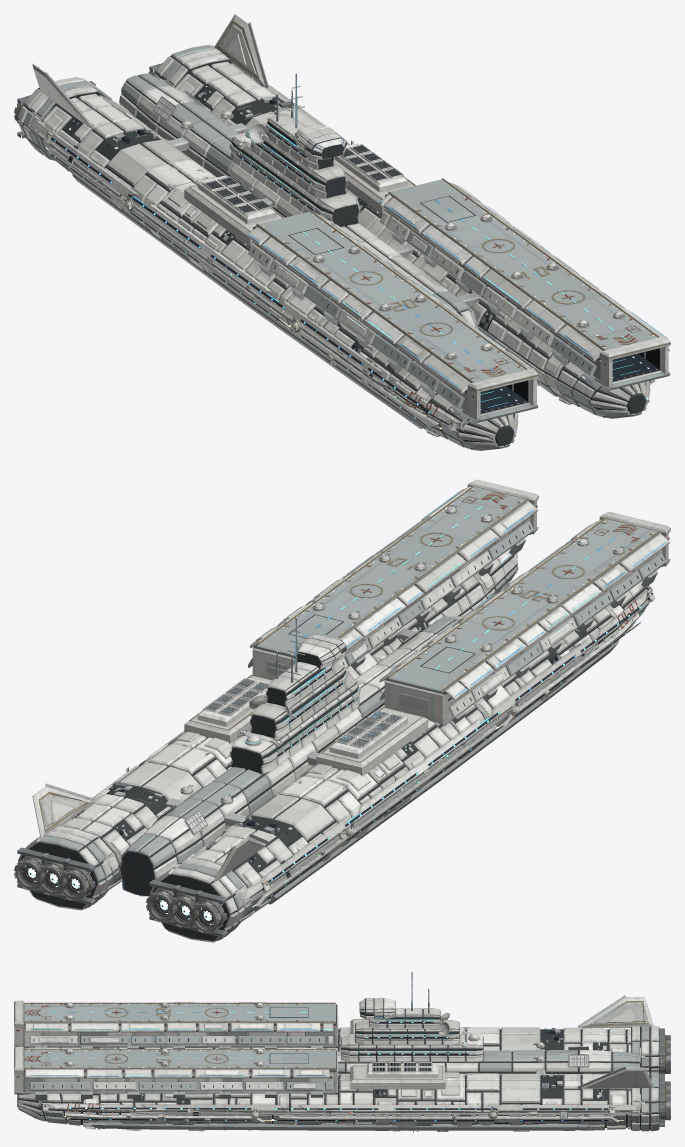
The model's file is aegis_carrier.glb.
The picture shows the model from 3 angles, top to bottom: view 1: azimuth 30°, elevation 25°; view 2: azimuth 150°, elevation 25°; view 3: azimuth 270°, elevation 25°; orthographic projection. The views are drawn at different scales.
Visible parts, largest first — view 1: aegis_carrier_hull, aegis_carrier_glass; view 2: aegis_carrier_hull; view 3: aegis_carrier_hull, aegis_carrier_glass.
Boxes of the visible parts, x1=… form: aegis_carrier_hull: x1=14, y1=14, x2=670, y2=450; aegis_carrier_glass: x1=51, y1=130, x2=426, y2=425; aegis_carrier_hull: x1=14, y1=479, x2=670, y2=942; aegis_carrier_hull: x1=14, y1=971, x2=670, y2=1132; aegis_carrier_glass: x1=68, y1=999, x2=607, y2=1120.
Size of the model in its own units: 79.89 by 62.98 by 276.
Materials: 3 (1 with a texture image).
